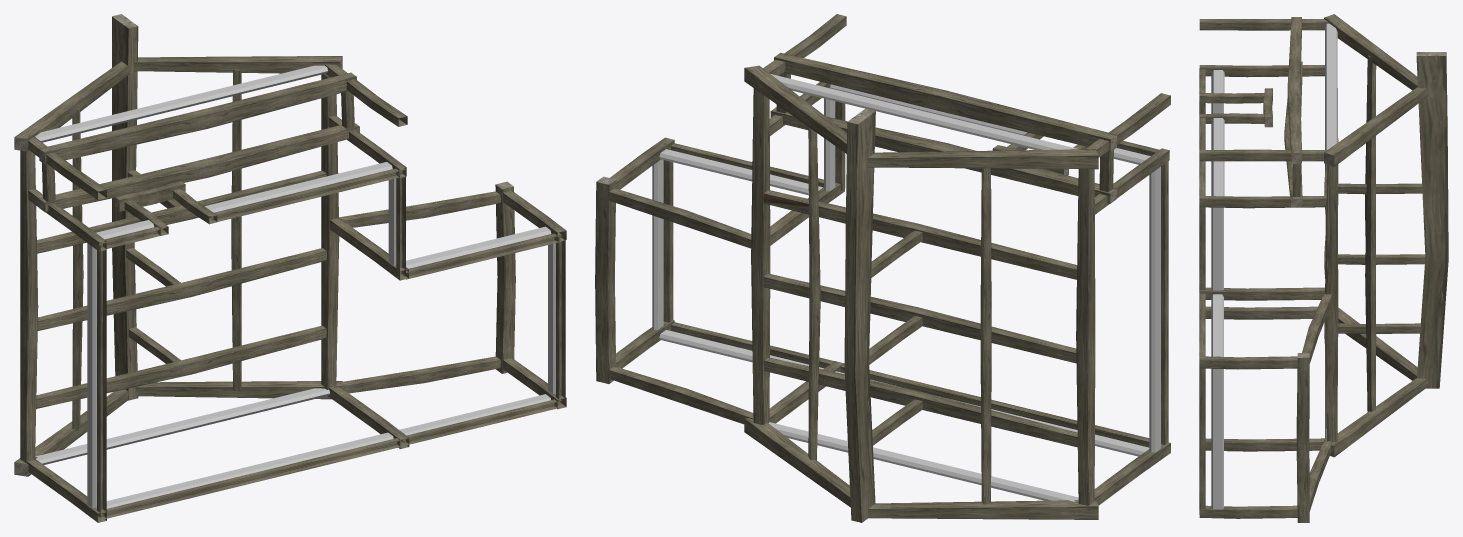
Rendered from Pirate_House_Structure_E.fbx.
3 renders of one model, left to right at view 1: azimuth 30°, elevation 25°; view 2: azimuth 150°, elevation 25°; view 3: azimuth 270°, elevation 25°, orthographic. The views are drawn at different scales.
Visible parts, largest first — view 1: Pirate_House_Structure_E; view 2: Pirate_House_Structure_E; view 3: Pirate_House_Structure_E.
Boxes of the visible parts, bbox=[...] form: Pirate_House_Structure_E: bbox=[14, 14, 566, 522]; Pirate_House_Structure_E: bbox=[595, 14, 1170, 522]; Pirate_House_Structure_E: bbox=[1199, 14, 1448, 522].
Bounding box in the file's own units: 15.11 × 11.22 × 7.6.
